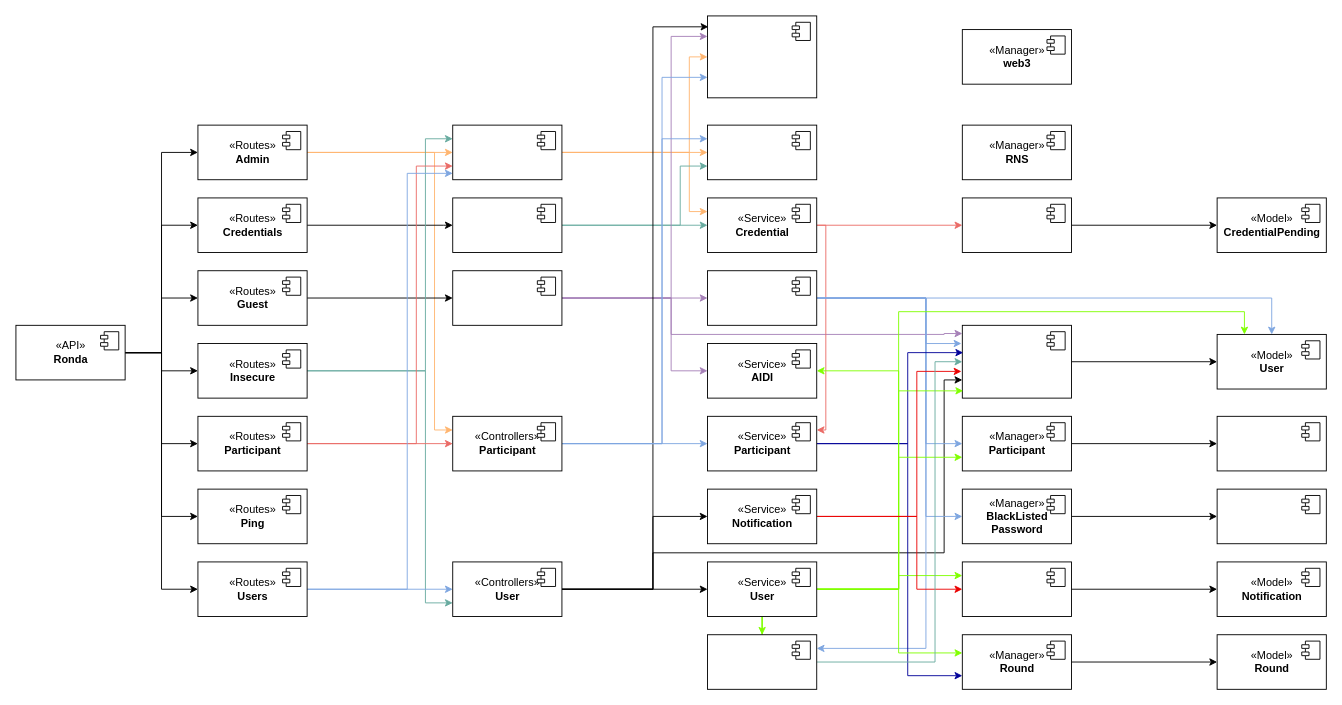
This 1342x705 diagram has some shape labels left out. Each missing label, with the centre of its shape:
"«Controllers» Credential" belongs at pixel 507 225.
"«Controllers» Guest" belongs at pixel 507 297.
"«Controllers» Round" belongs at pixel 507 152.
"«Manager» CredentialPending" belongs at pixel 1016 225.
"«Manager» Notification" belongs at pixel 1016 589.
"«Manager» User" belongs at pixel 1016 361.
"«Model» BlackListed Pasword" belongs at pixel 1271 516.
"«Model» Participant" belongs at pixel 1271 443.
"«Service» Blockchain" belongs at pixel 762 661.
"«Service» Guest" belongs at pixel 762 297.
"«Service» PostRes" belongs at pixel 762 56.
"«Service» Round" belongs at pixel 762 152.
